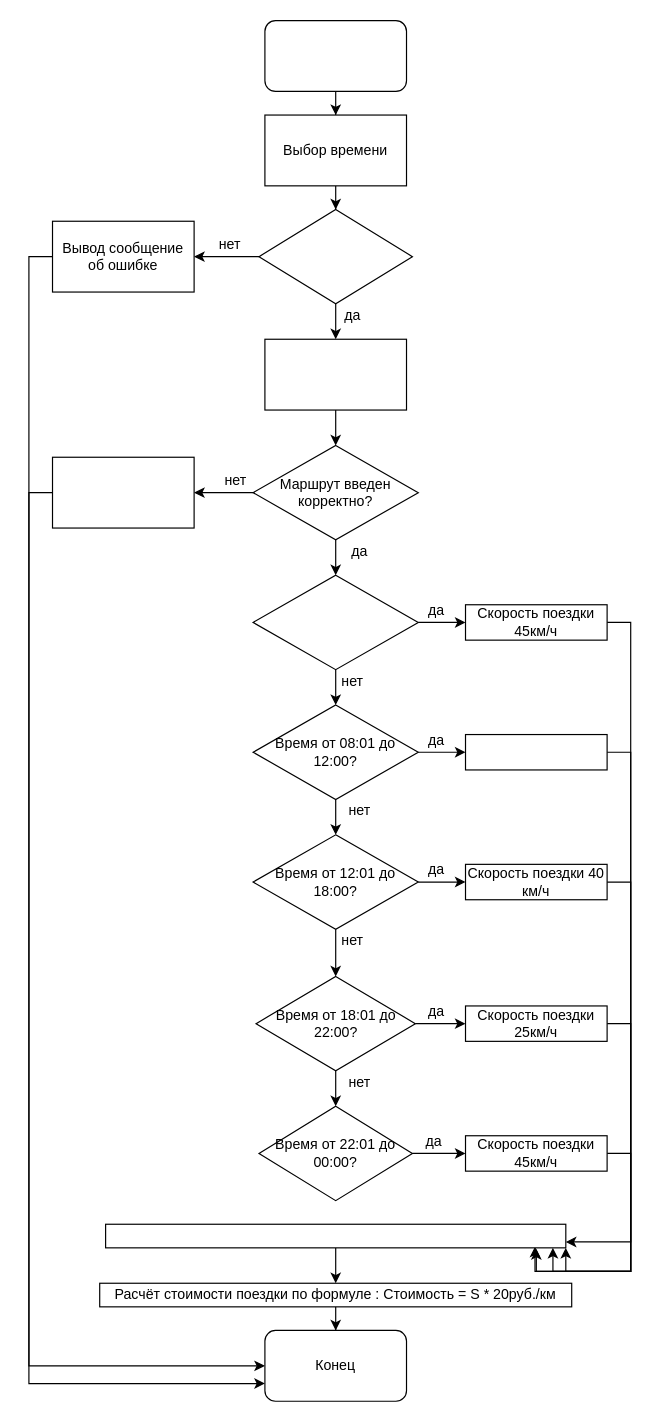
Some shapes in this 661 by 1422 pixel diagram are drawn without their labels. Here are the shapes that lost their labels. From the top down, the centre of each, then its label:
At pixel 335 55: "Начало Личный авто".
At pixel 335 256: "Время введено корректно?".
At pixel 335 374: "Выбор маршрута".
At pixel 122 492: "Вывод сообщения об ошибке".
At pixel 335 622: "Время от 00:01 до 08:00?".
At pixel 535 751: "Скорость поездки 30км/ч".
At pixel 335 1235: "Расчёт времени поездки по формуле : T=(S/Vср)*60".
